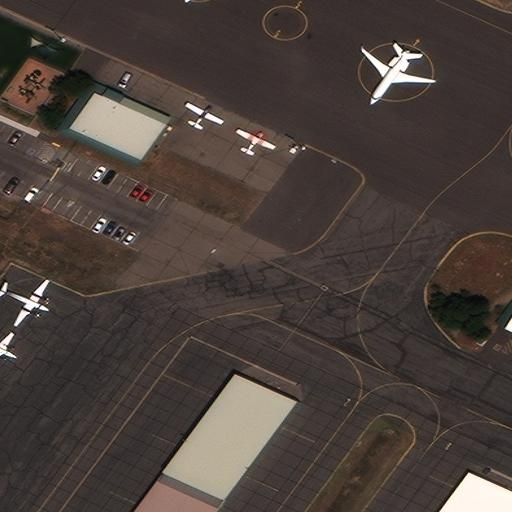Medium Civil Transport: (360, 50, 435, 105), (0, 281, 50, 327)
Small Civil Transport: (187, 101, 224, 127), (238, 128, 276, 153), (0, 333, 16, 363)
